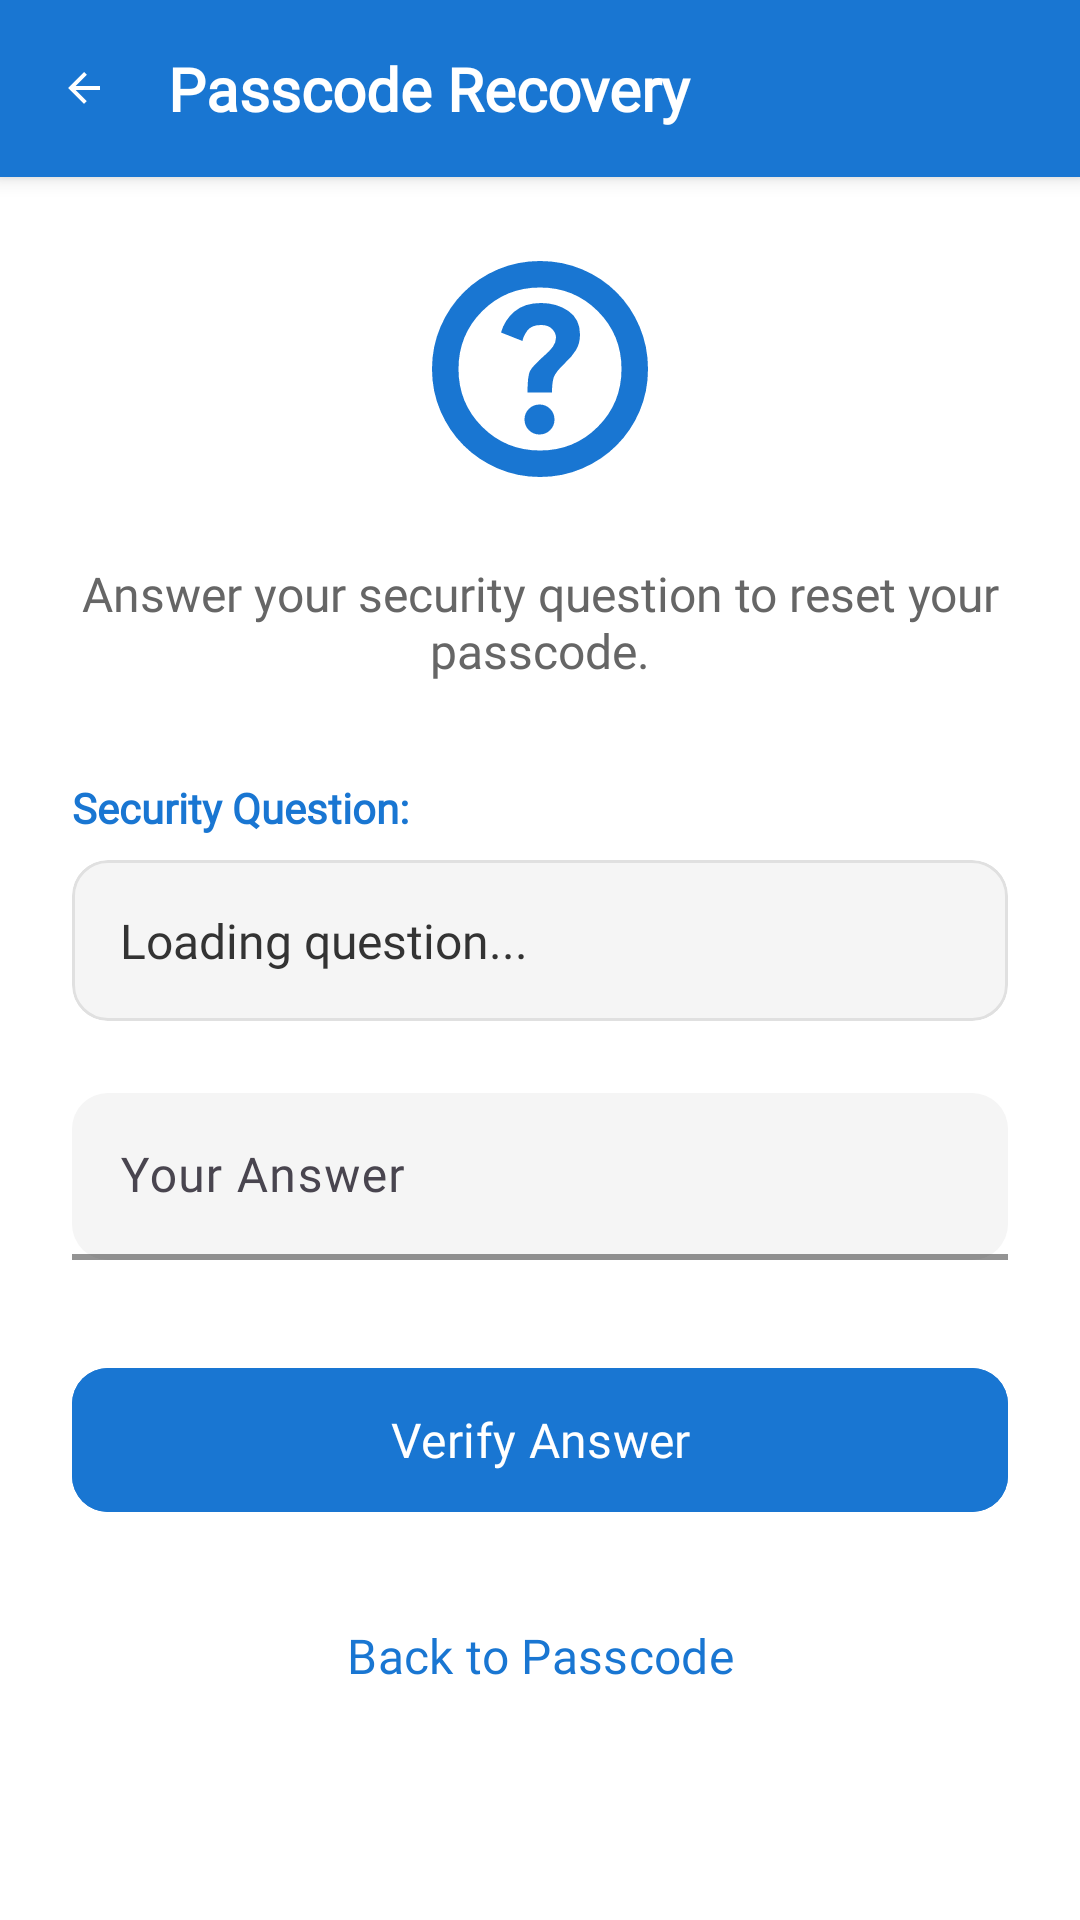

Named icons in this screenshot (1080px×1920px) and their bounding boxes, [x1, y1, x2, y2]:
Back: [68, 72, 100, 104]
